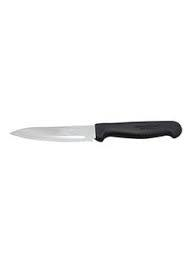Knife: (9, 119, 182, 142)
